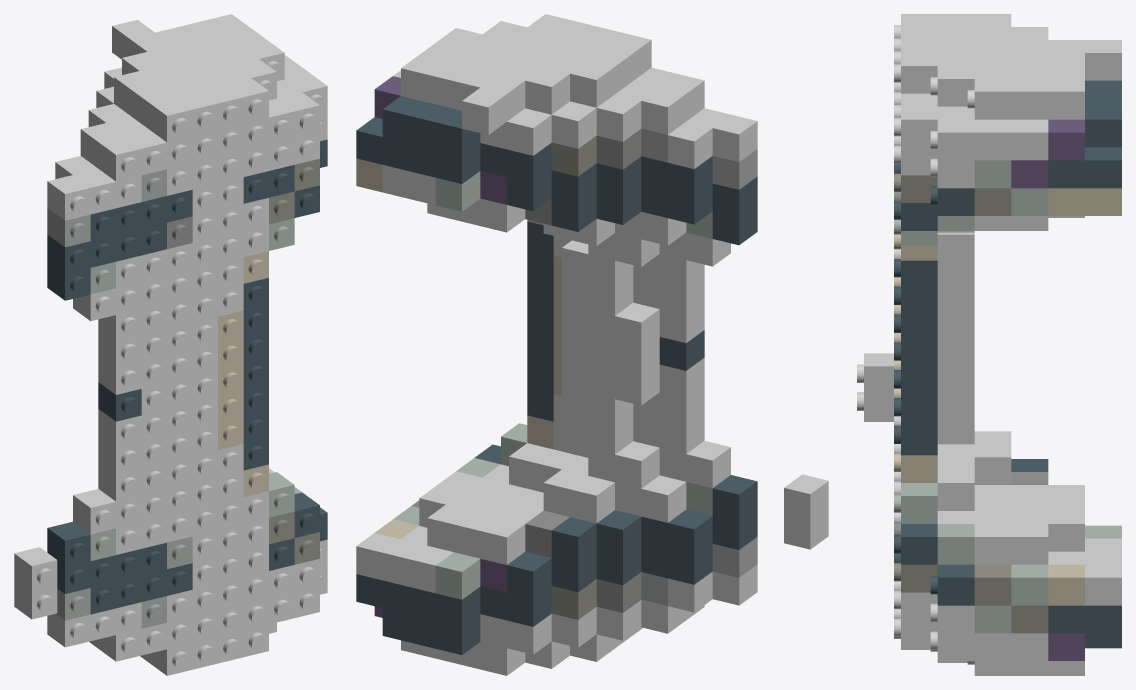
Rendered from full.glb.
3 renders of one model, left to right at view 1: azimuth 30°, elevation 25°; view 2: azimuth 150°, elevation 25°; view 3: azimuth 270°, elevation 25°, orthographic. The views are drawn at different scales.
Parts seen in each view (by area): view 1: world; view 2: world; view 3: world.
Part boxes in pixels (bbox=[...]): world: bbox=[14, 14, 327, 675]; world: bbox=[356, 14, 828, 675]; world: bbox=[857, 14, 1121, 675].
Size of the model in its own units: 104 by 168 by 69.
